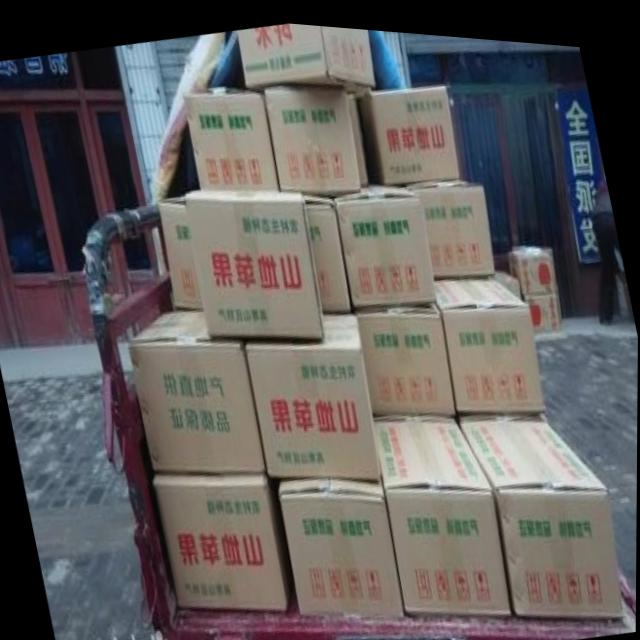box: (460, 413, 626, 609), (374, 413, 512, 606), (129, 305, 268, 468), (245, 307, 380, 473), (184, 185, 326, 336), (154, 469, 289, 604), (280, 472, 406, 609), (435, 268, 546, 403), (334, 178, 435, 301), (357, 293, 459, 408), (263, 80, 361, 192), (355, 77, 460, 178), (183, 83, 280, 187), (237, 18, 375, 89), (403, 169, 496, 269), (302, 186, 351, 305), (158, 193, 202, 308), (509, 236, 557, 284), (347, 88, 368, 177), (523, 285, 560, 322)
